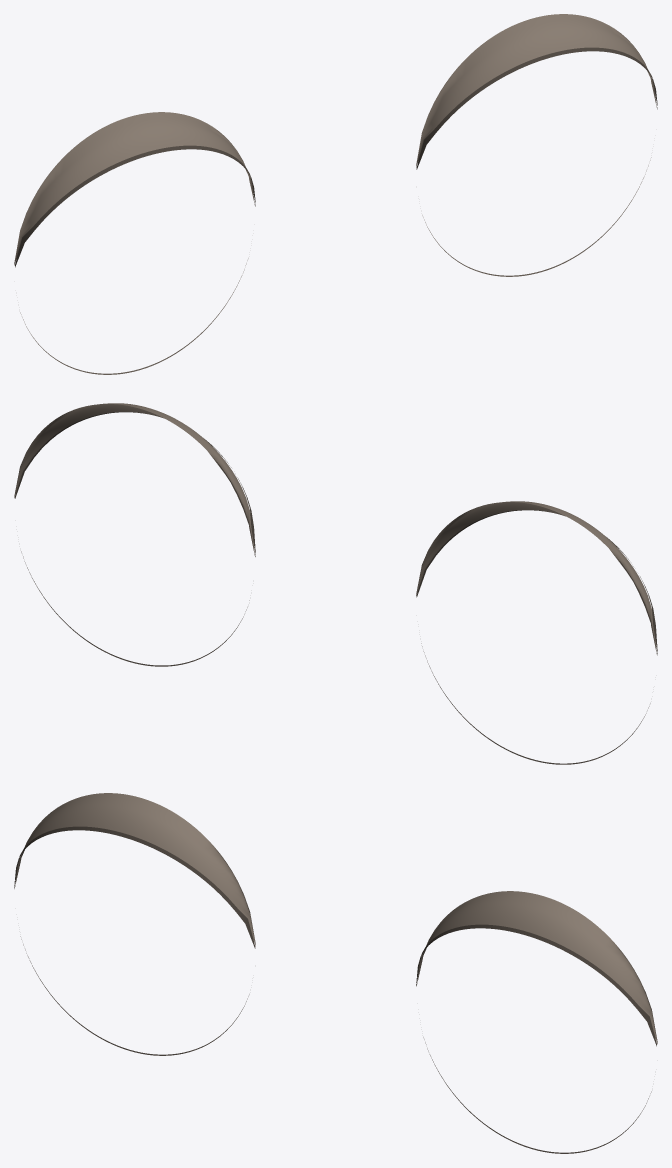
The model's file is gorille-eyelids-v1.glb.
3 renders of one model, top to bottom at view 1: azimuth 30°, elevation 25°; view 2: azimuth 150°, elevation 25°; view 3: azimuth 330°, elevation 25°, orthographic.
Parts seen in each view (by area): view 1: Paupieres_Sculptees; view 2: Paupieres_Sculptees; view 3: Paupieres_Sculptees.
Part boxes in pixels (box(x1,y1,x2,y2)): Paupieres_Sculptees: box(14, 14, 657, 374); Paupieres_Sculptees: box(14, 403, 657, 764); Paupieres_Sculptees: box(14, 793, 657, 1153).
Bounding box in the file's own units: 0.4257 × 0.162 × 0.0235.
